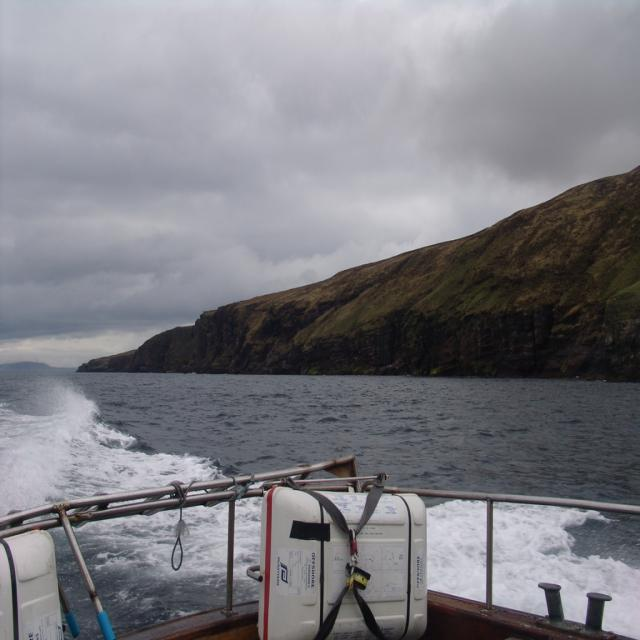Boat: (0, 453, 640, 640)
